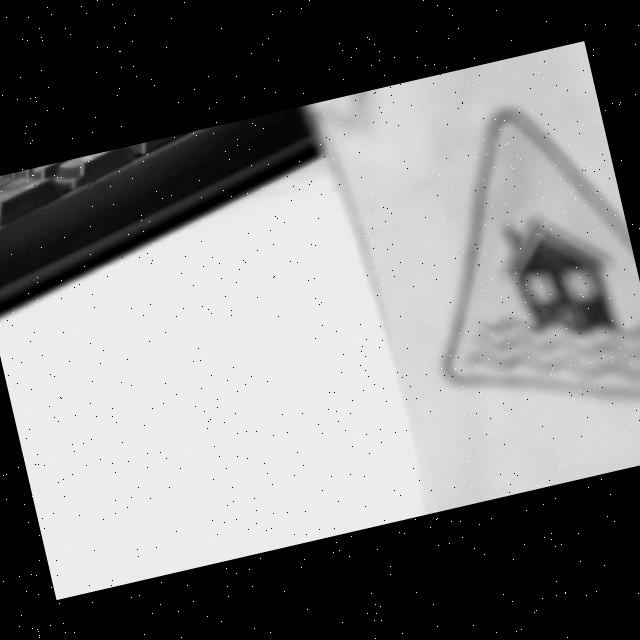Tsunami: (450, 109, 640, 398)
